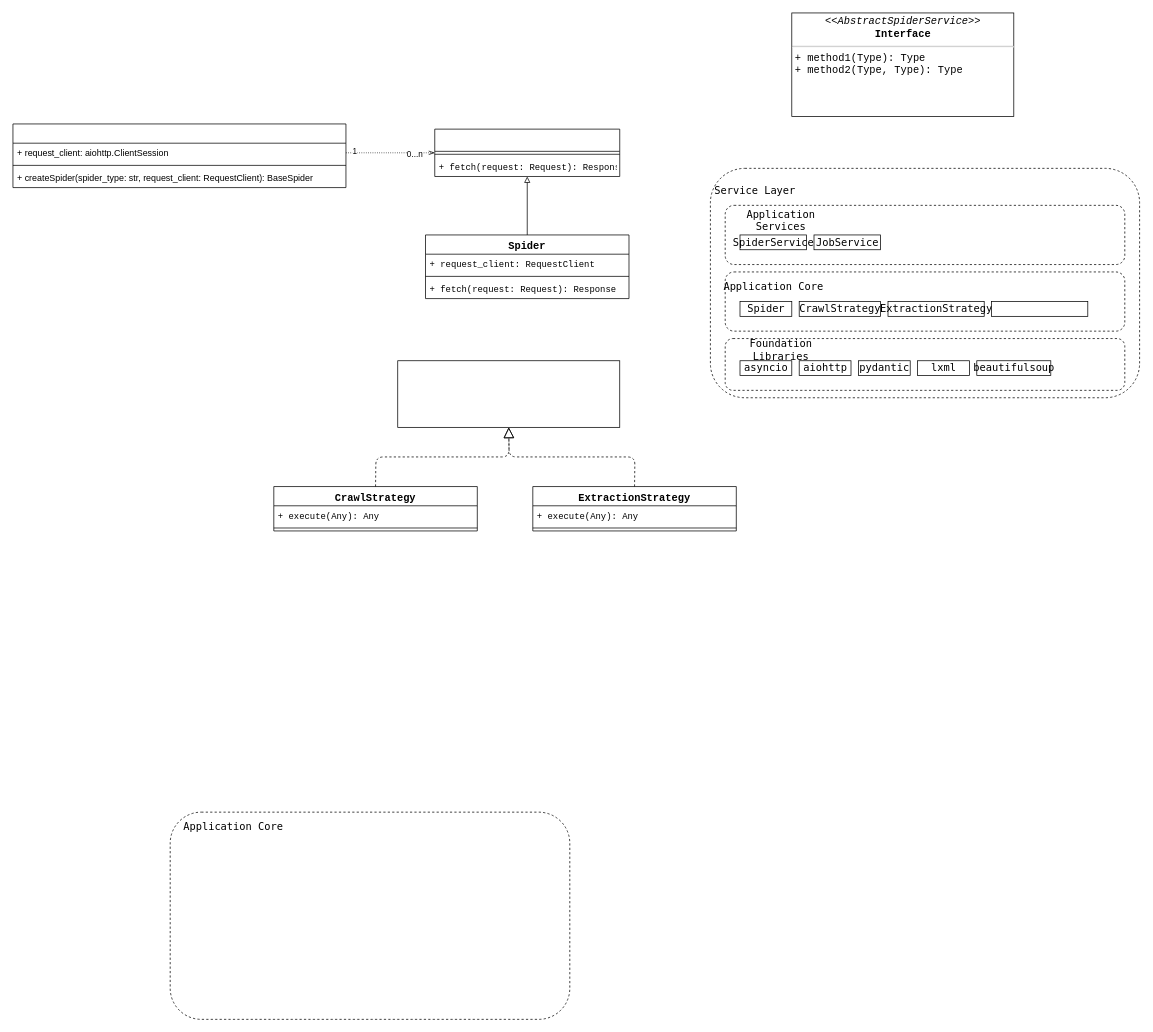
The diagram is 1153 pixels wide and 1032 high, and some of its shapes have lost their labels. Here are the shapes that lost their labels. From the top down, the box of each, then its label:
(12, 123, 346, 188): SpiderCreator
(434, 128, 620, 176): BaseSpider
(991, 301, 1088, 316): Scheduler
(397, 360, 620, 427): <<Interface>> Strategy + execute(Any): Any
